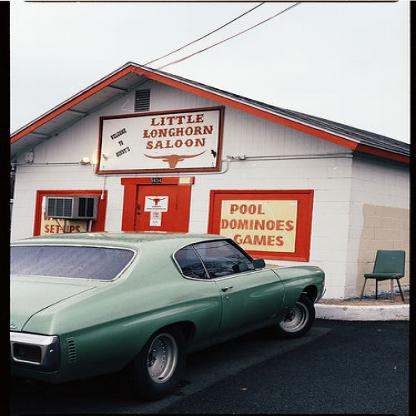car: (0, 233, 326, 398)
chair: (358, 249, 406, 302)
